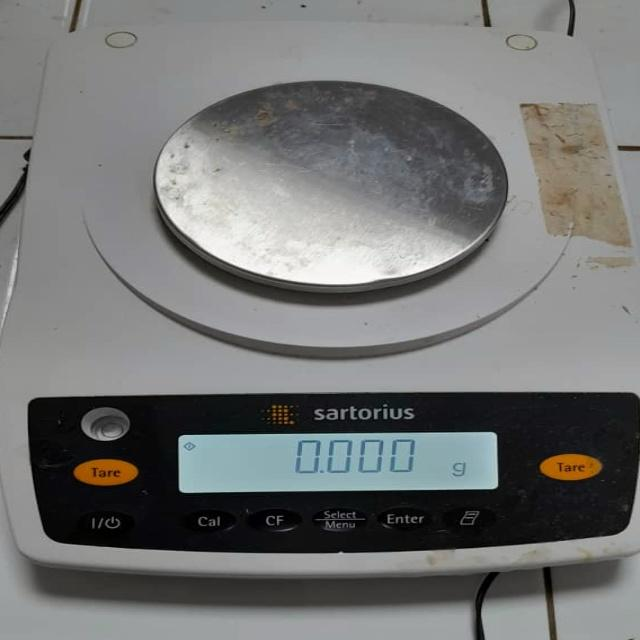Electronic balance: (2, 26, 638, 585)
